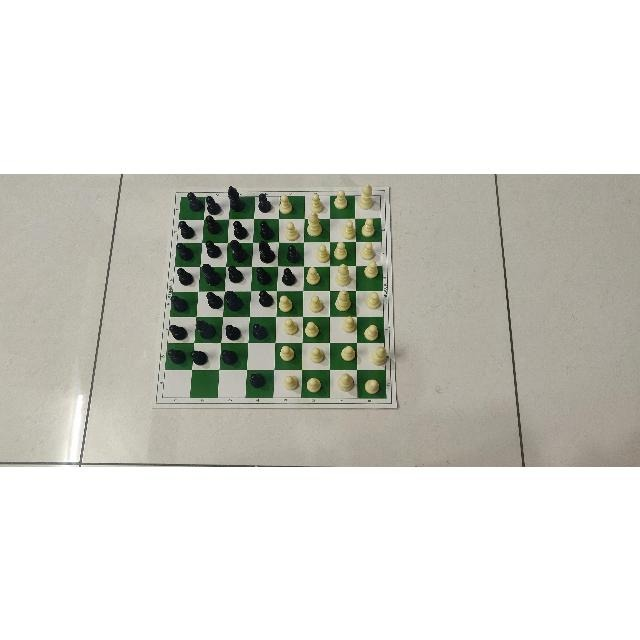black-bishop: (193, 315, 221, 338), (200, 261, 224, 287), (226, 183, 246, 214), (226, 238, 249, 262), (223, 289, 246, 313), (256, 239, 277, 262)
black-pawn: (252, 289, 276, 313), (167, 343, 189, 368), (248, 369, 270, 394), (224, 316, 246, 340), (249, 317, 270, 342), (221, 342, 242, 367), (191, 344, 213, 367), (182, 192, 203, 216), (169, 317, 190, 341), (255, 191, 275, 215), (204, 290, 224, 314), (226, 264, 246, 287), (252, 266, 273, 287), (281, 242, 302, 263), (205, 192, 225, 214), (170, 291, 189, 314), (279, 266, 299, 287), (204, 238, 222, 261), (256, 219, 276, 239), (229, 219, 249, 239), (173, 266, 193, 286), (205, 215, 223, 235), (176, 242, 194, 262), (177, 218, 194, 238)
white-bishop: (366, 341, 390, 367), (333, 370, 356, 396), (358, 180, 378, 209), (306, 211, 326, 239), (333, 289, 352, 312), (336, 262, 352, 287)
white-pawn: (359, 260, 383, 288), (305, 264, 330, 289), (332, 314, 357, 339), (275, 342, 300, 367), (305, 191, 329, 215), (305, 242, 329, 265), (331, 241, 354, 264), (278, 191, 300, 215), (305, 371, 327, 395), (277, 317, 300, 339), (304, 315, 326, 338), (278, 370, 300, 393), (333, 189, 354, 213), (356, 244, 381, 264), (362, 316, 382, 341), (361, 370, 380, 396), (281, 218, 303, 240), (279, 291, 300, 314), (308, 343, 328, 367), (306, 291, 326, 314), (336, 342, 356, 365), (337, 218, 357, 240), (361, 215, 379, 239), (362, 291, 381, 311)
